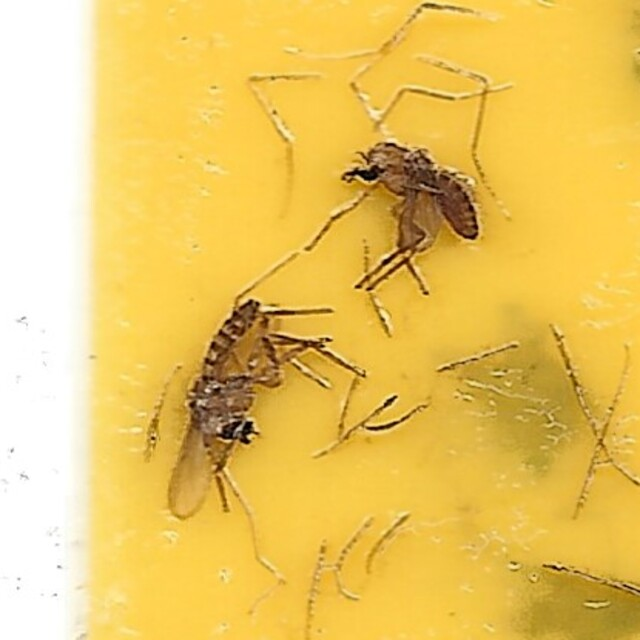Nematocera: (154, 301, 345, 511), (339, 129, 486, 325)
